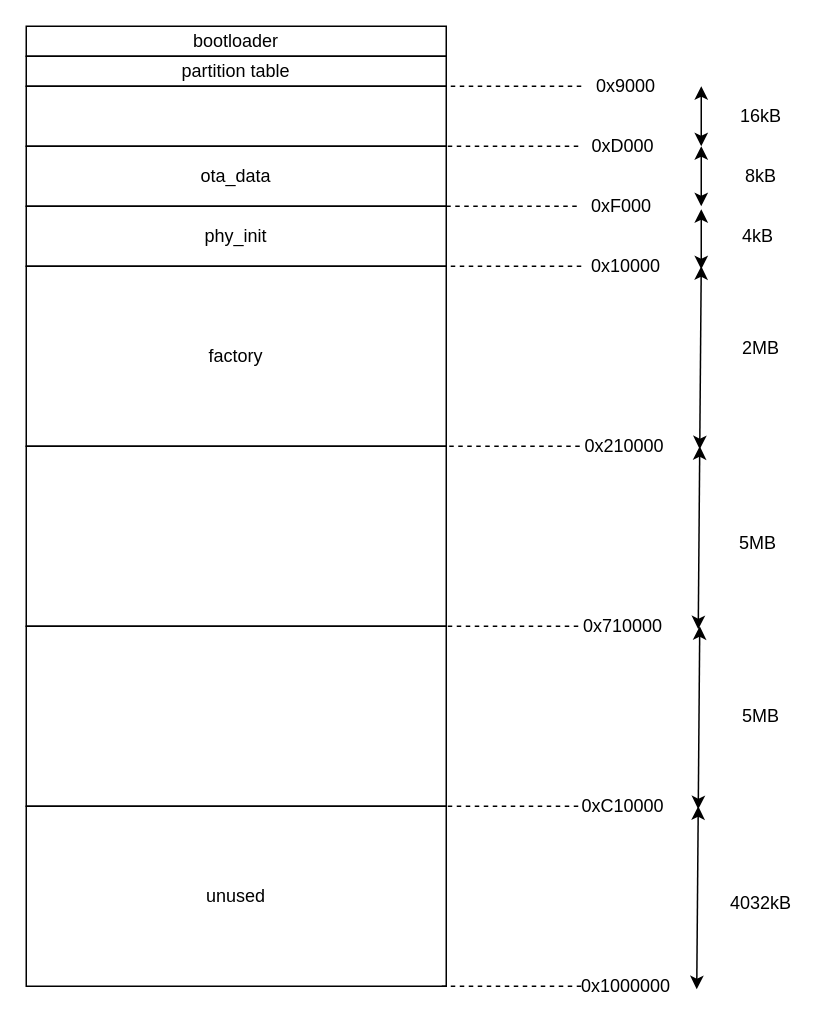
The diagram is 833 pixels wide and 1035 high, and some of its shapes have lost their labels. Here are the shapes that lost their labels. From the top down, the centre of each, then its label:
At (235,115): "nvs".
At (235,535): "ota_0".
At (235,715): "ota_1".
